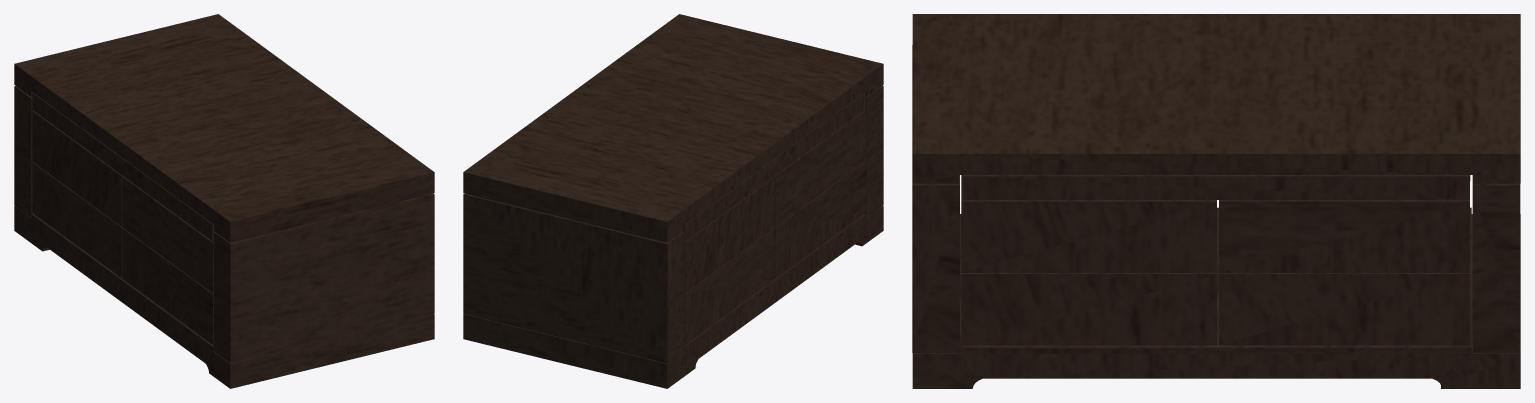
Rendered from right_drawer.glb.
3 views of the same model, side by side, from view 1: azimuth 30°, elevation 25°; view 2: azimuth 150°, elevation 25°; view 3: azimuth 270°, elevation 25° (orthographic). The views are drawn at different scales.
Parts seen in each view (by area): view 1: Right Drawer; view 2: Right Drawer; view 3: Right Drawer.
Part boxes in pixels (x1,y1,x2,y2): Right Drawer: [14, 14, 434, 388]; Right Drawer: [463, 14, 883, 388]; Right Drawer: [912, 14, 1520, 388].
Size of the model in its own units: 0.6416 by 0.5016 by 1.18.
Materials: 1 (1 with a texture image).
